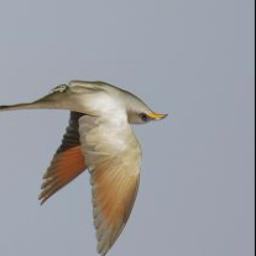Cuckoo: (0, 83, 167, 256)
